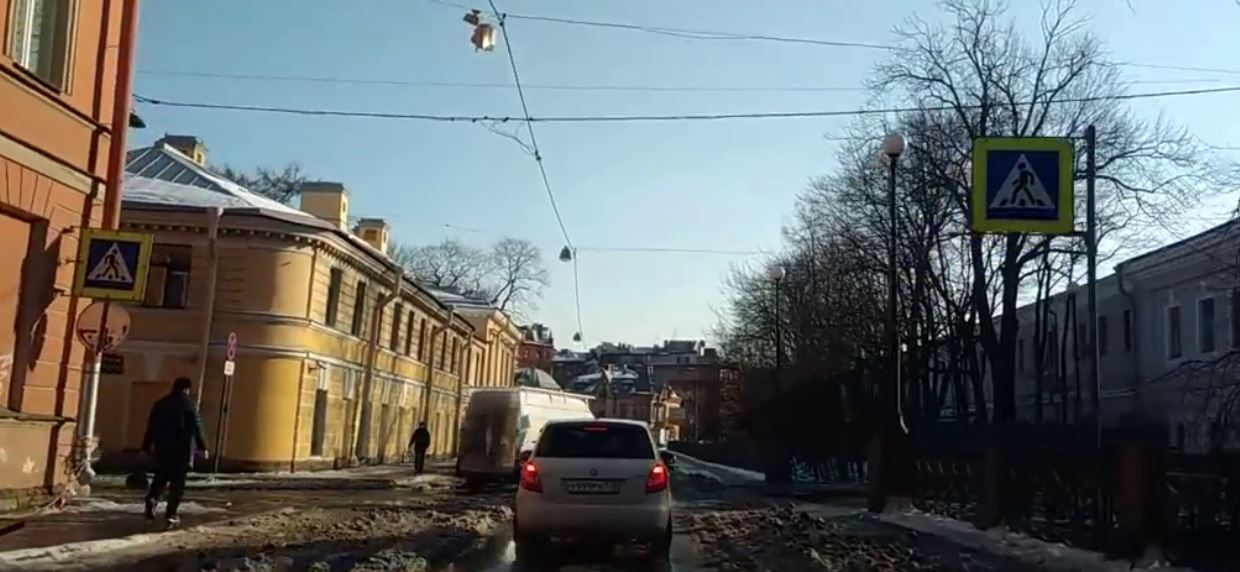Yaya Gecidi: (983, 149, 1064, 222), (92, 236, 142, 292)
